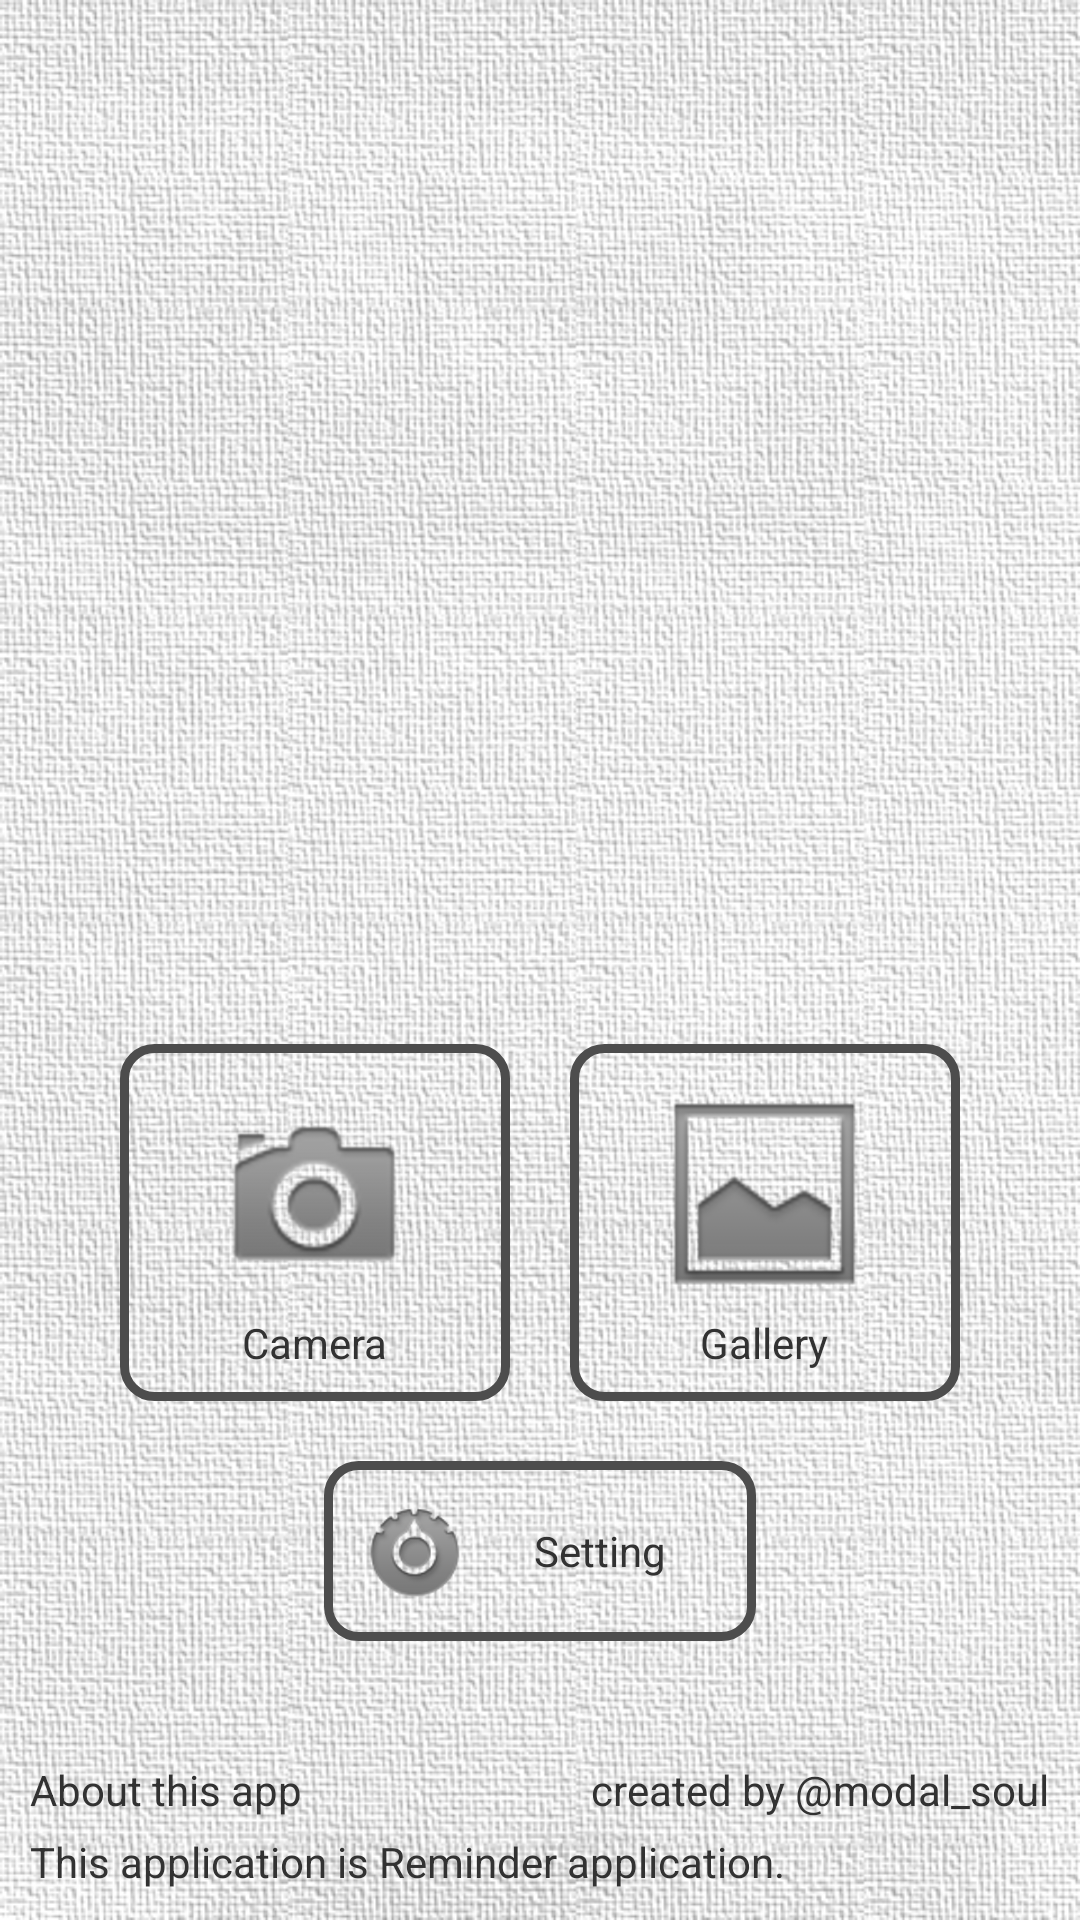

Screen size 1080x1920. Icon name, then its center in pixels as (x=x, y=y):
preferences: (x=414, y=1551)
